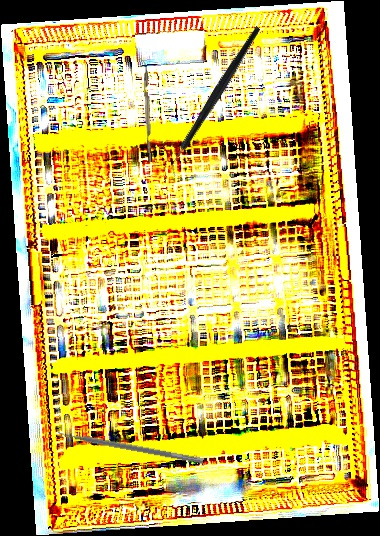Chopper: (132, 25, 300, 179), (139, 57, 152, 163)
Spatula Surgical: (53, 424, 205, 465)
